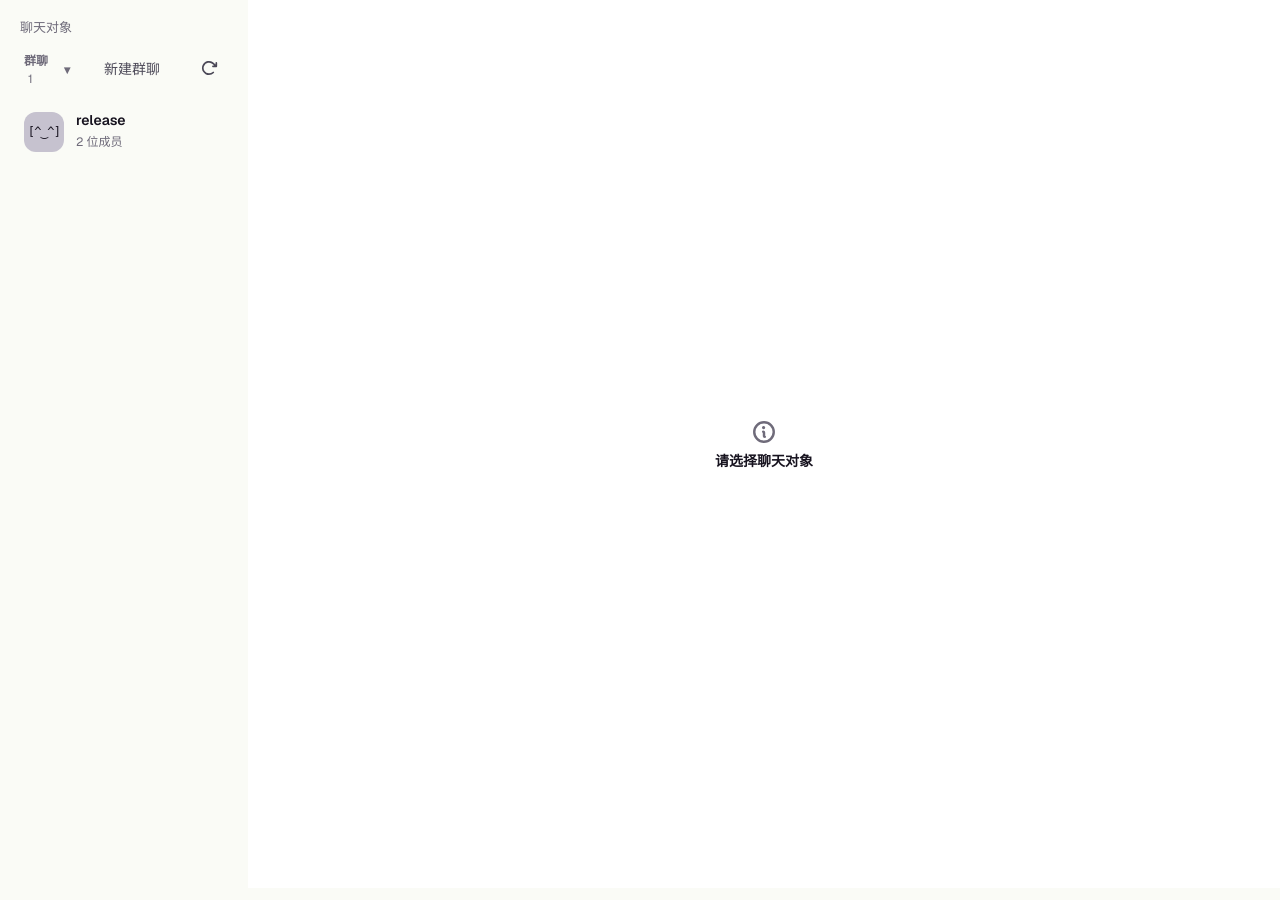
Test: ConnectedChatPage combined group send and admin › shows both composer and 成员 button in a group and keeps conversations.get and conversations.post isolated 1:1
Click the button "[^‿^] release 2 位成员". click: (124, 132)
box: [12,100,236,164]
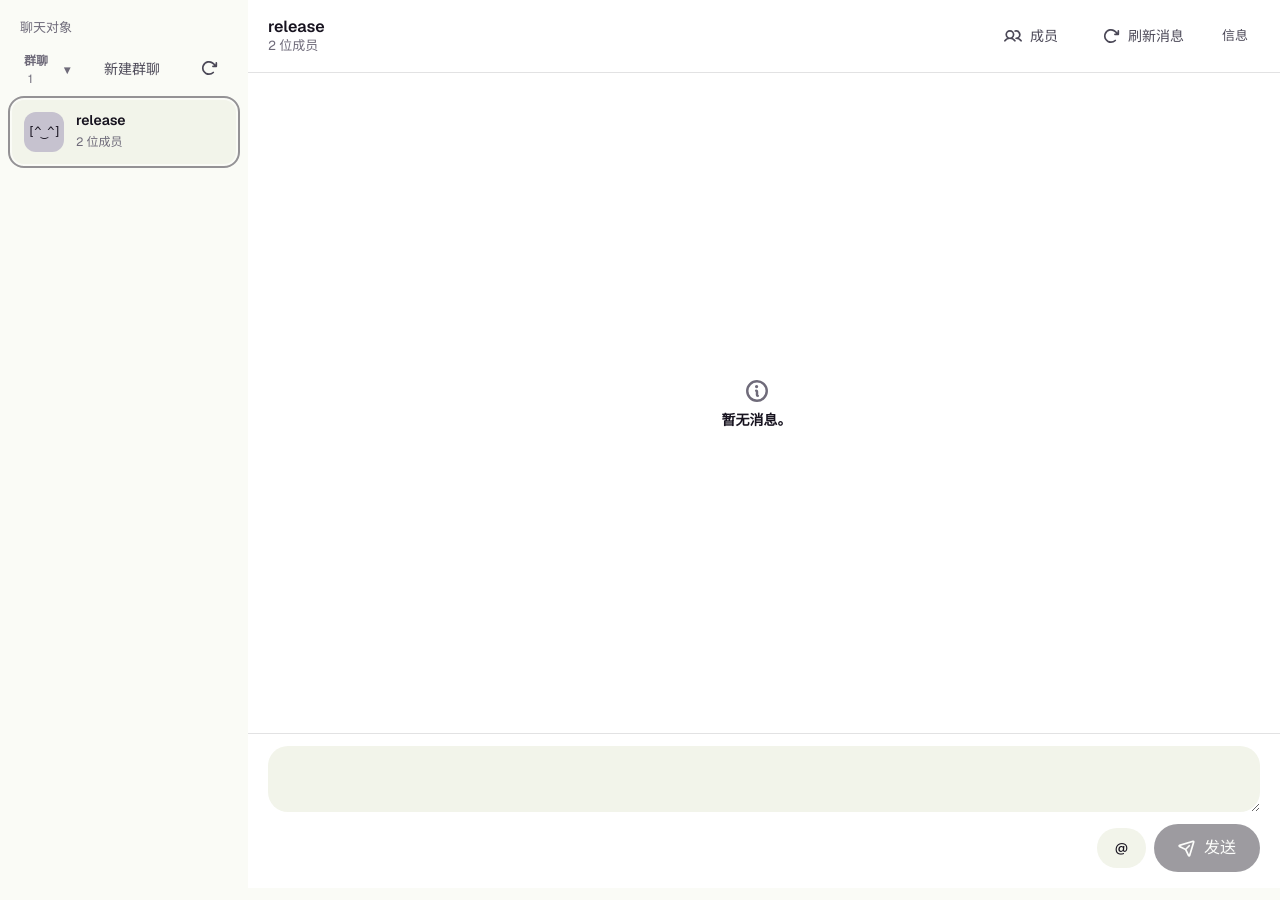
Check: the text box named "给 release 的消息" is shown, box [268,746,1260,812]
Check: the button "成员" is shown
Click the button "成员". click: (1031, 36)
box: [986,16,1076,56]
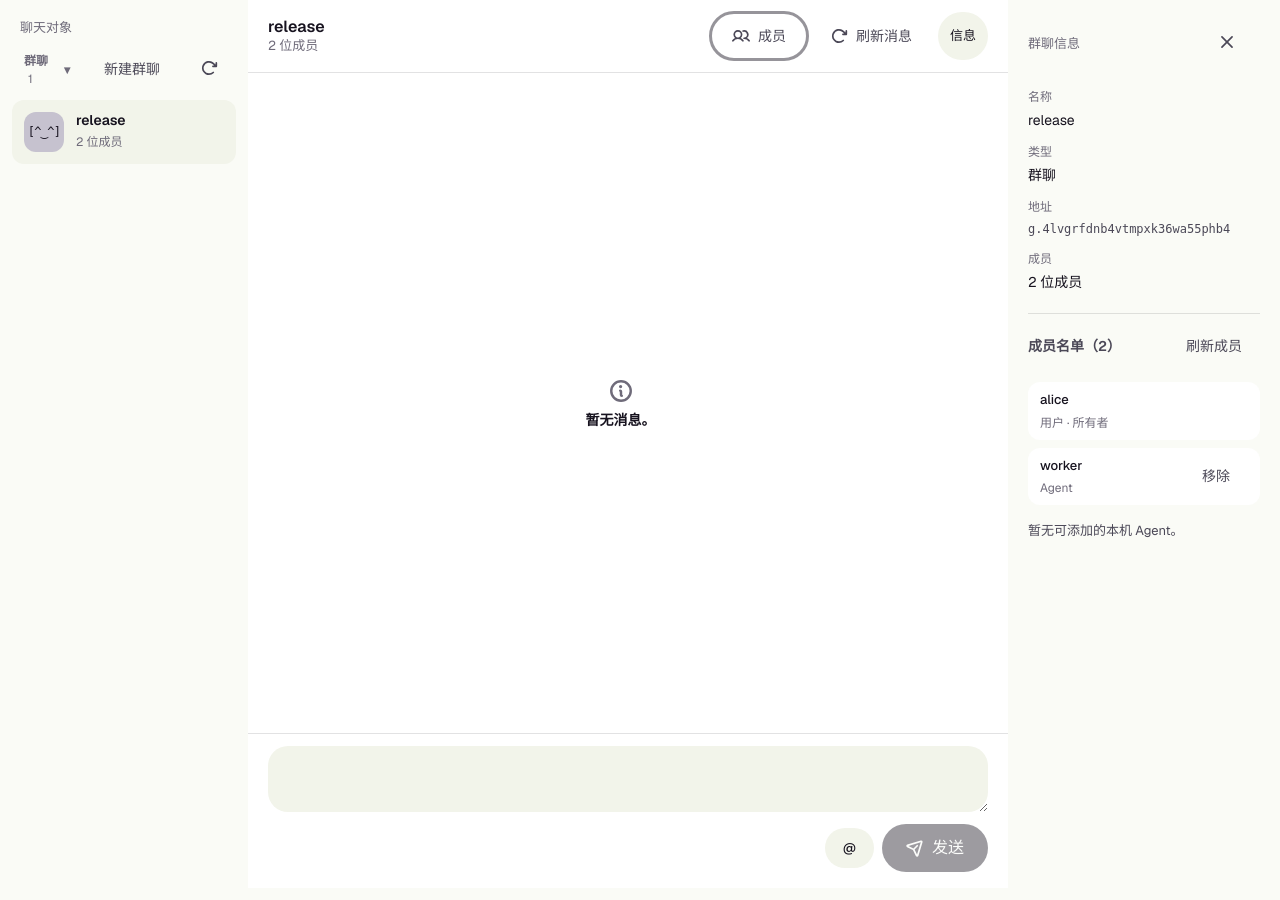
Check: the element named "群成员管理" is shown, box [1028,313,1260,540]
Type "hello merged group" into the text box named "给 release 的消息". click: (628, 779)
box: [268,746,988,812]
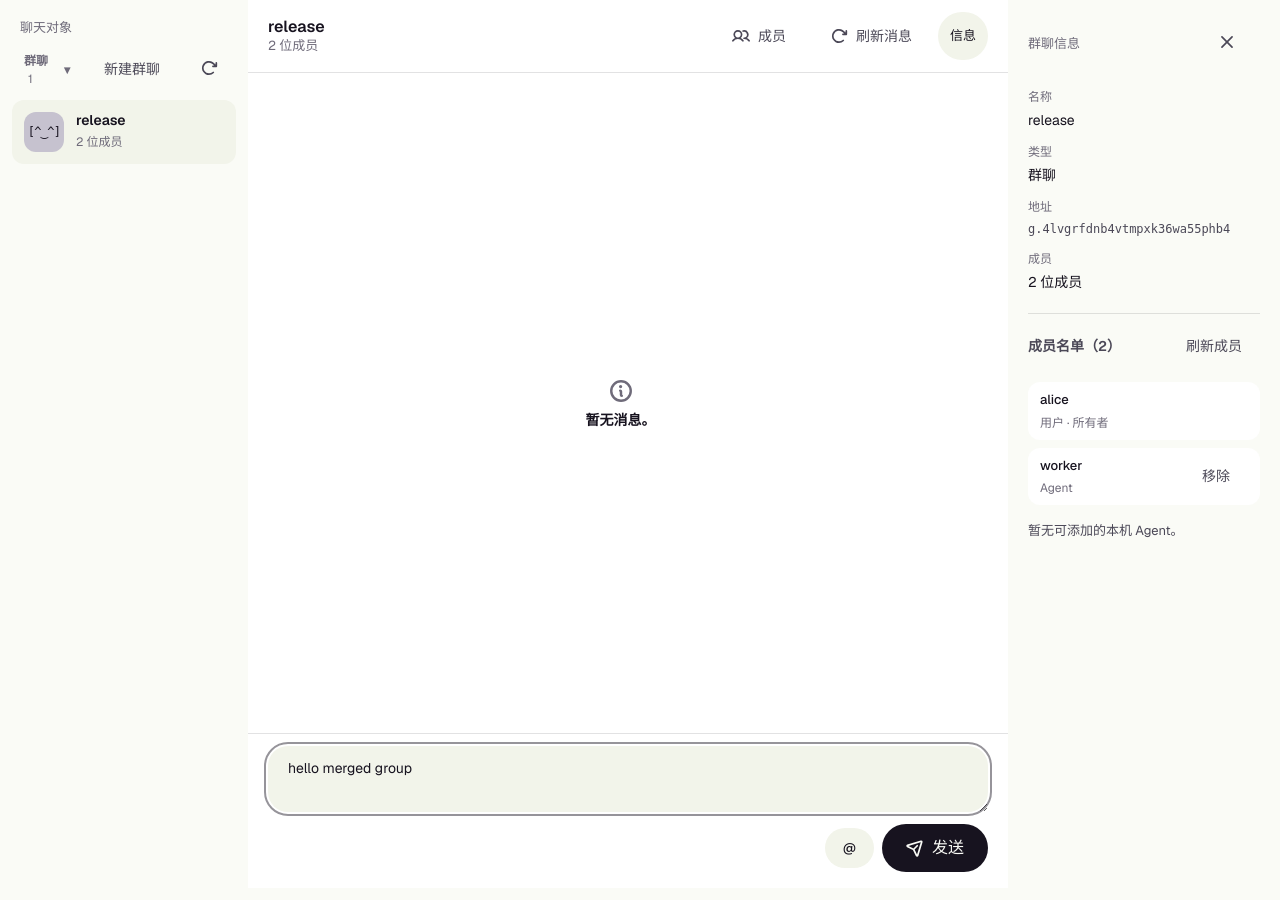
Click the button "发送". click: (935, 848)
box: [882,824,988,872]
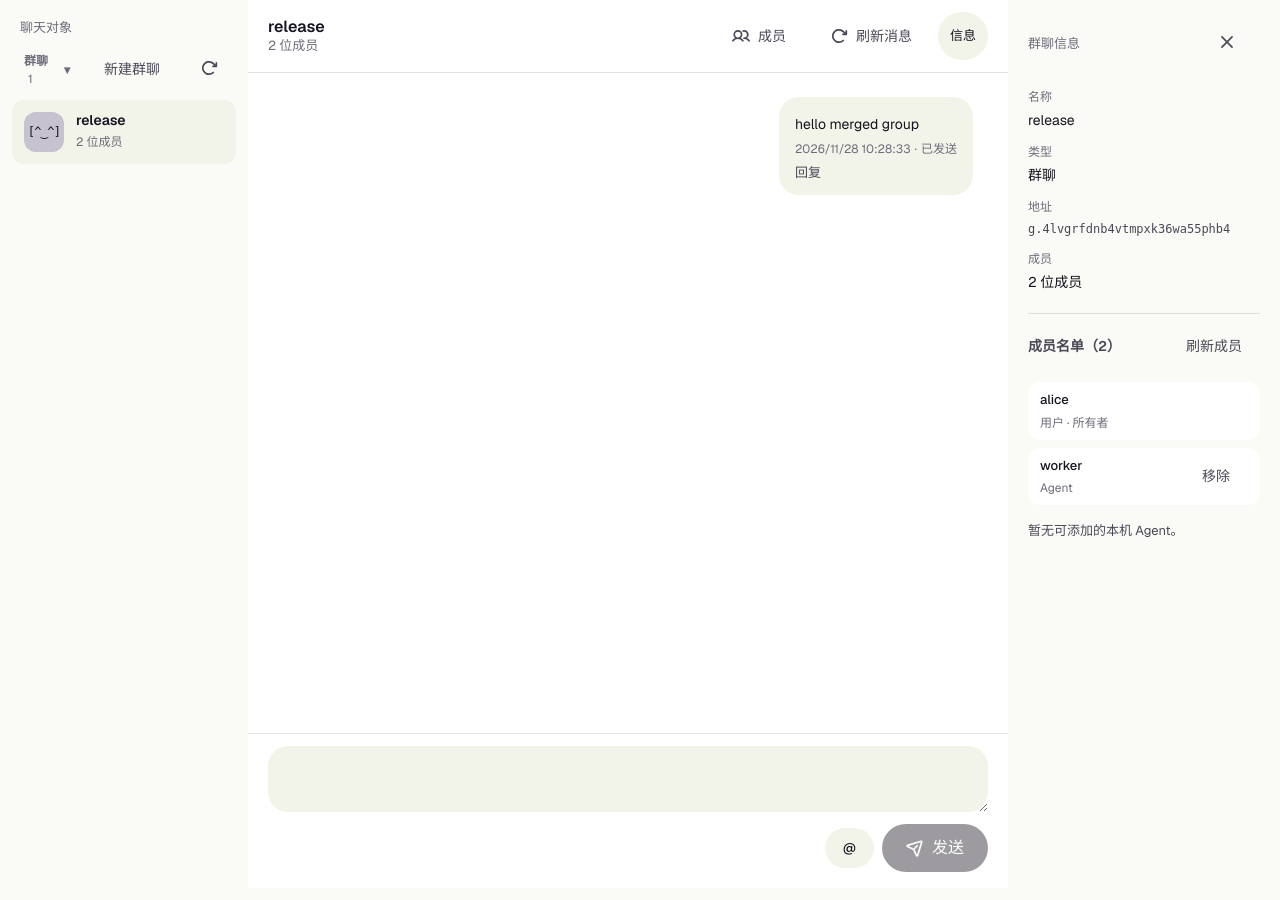
Check: the text "hello merged group" is shown, box [795,115,919,133]
